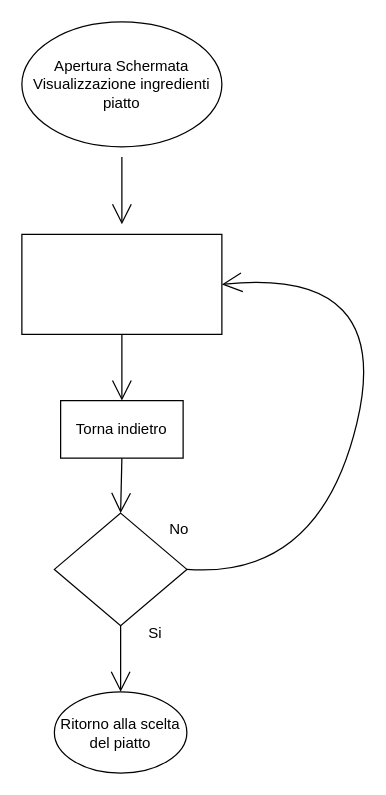
Some shapes in this 386 by 795 pixel diagram are drawn without their labels. The box of each missing label's shape, as (x1, y1, x2, y2) in pixels:
Sei sicuro di uscire?: (53, 512, 187, 626)
Visualizza ingredienti piatto: (21, 233, 222, 334)
